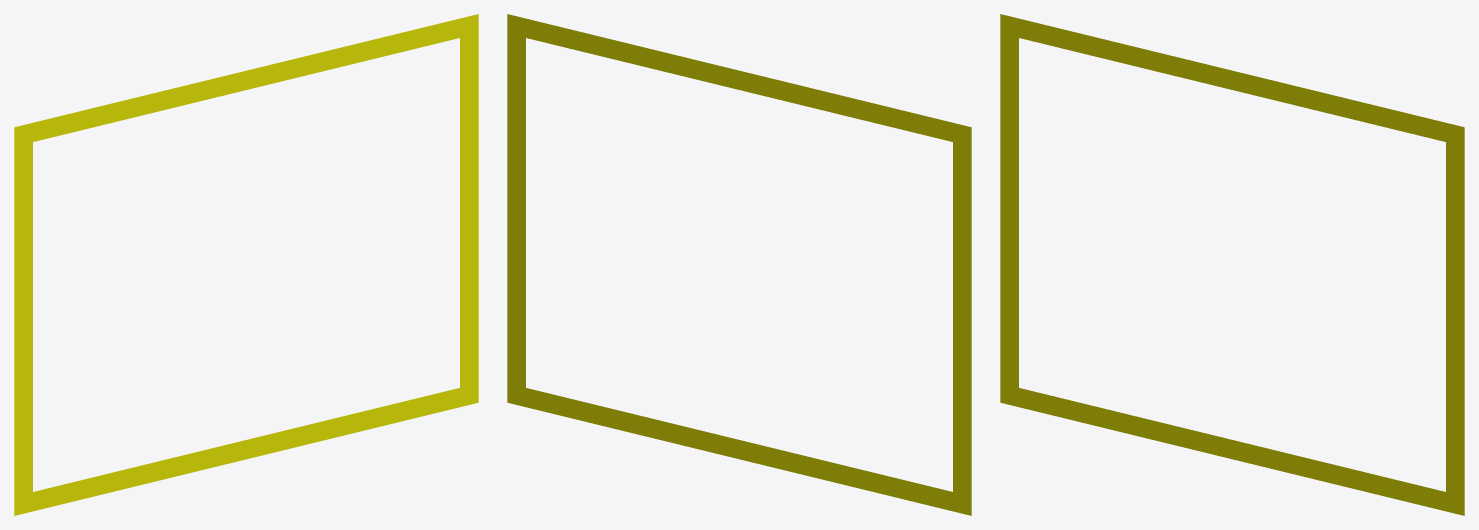
Rendered from RoomSelector_Size2.fbx.
The picture shows the model from 3 angles, left to right: view 1: azimuth 30°, elevation 25°; view 2: azimuth 150°, elevation 25°; view 3: azimuth 330°, elevation 25°; orthographic projection.
Parts seen in each view (by area): view 1: RoomSelectorSize2; view 2: RoomSelectorSize2; view 3: RoomSelectorSize2.
Boxes of the visible parts, x1,y1,x2,y2 form: RoomSelectorSize2: [14, 14, 478, 515]; RoomSelectorSize2: [507, 14, 971, 515]; RoomSelectorSize2: [1000, 14, 1464, 515].
Size of the model in its own units: 500 by 400 by 0.
